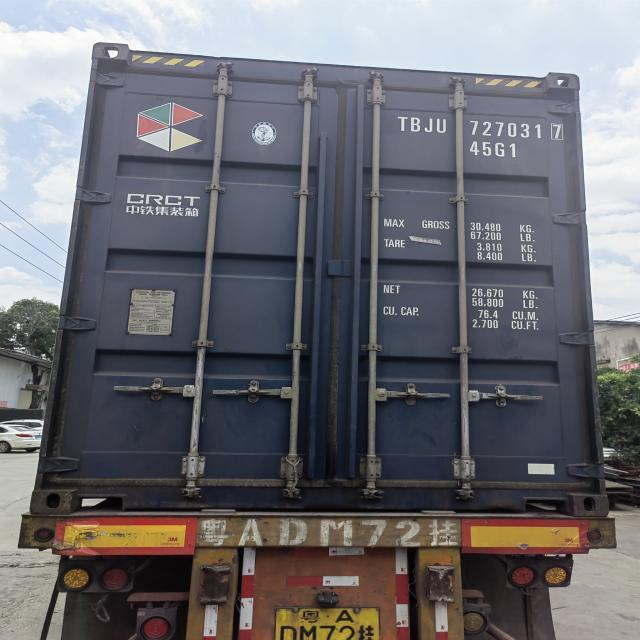ISO: (470, 140, 518, 160)
container_number: (403, 115, 567, 139)
